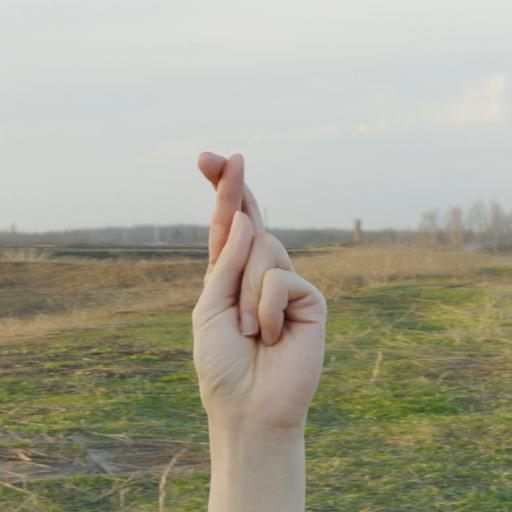R: (178, 128, 340, 442)
